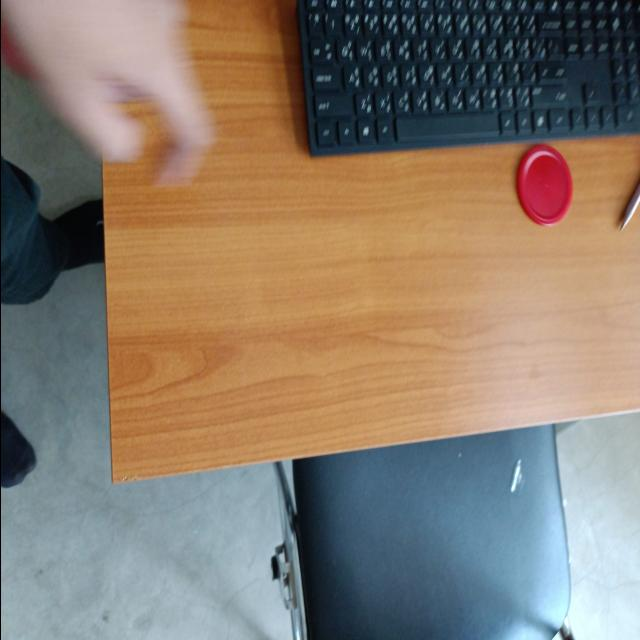chip: (514, 142, 574, 228)
